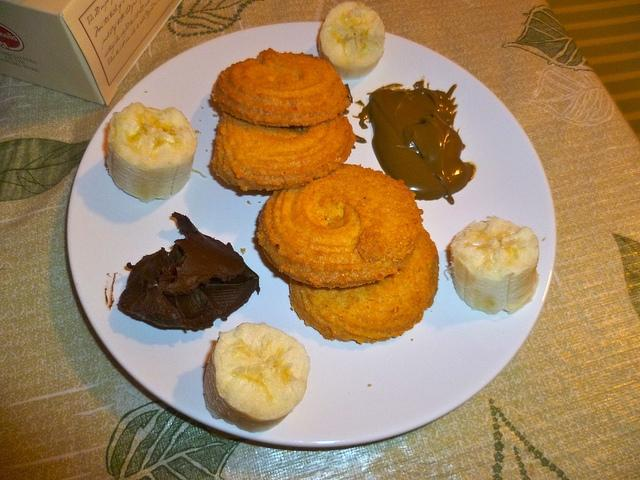banana: (202, 322, 310, 433), (106, 101, 206, 204), (448, 215, 540, 315), (318, 1, 386, 81)
